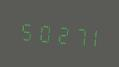five: (18, 16, 33, 44)
one: (82, 22, 97, 50)
seven: (66, 20, 81, 48)
two: (50, 19, 65, 47)
zero: (34, 17, 49, 46)
